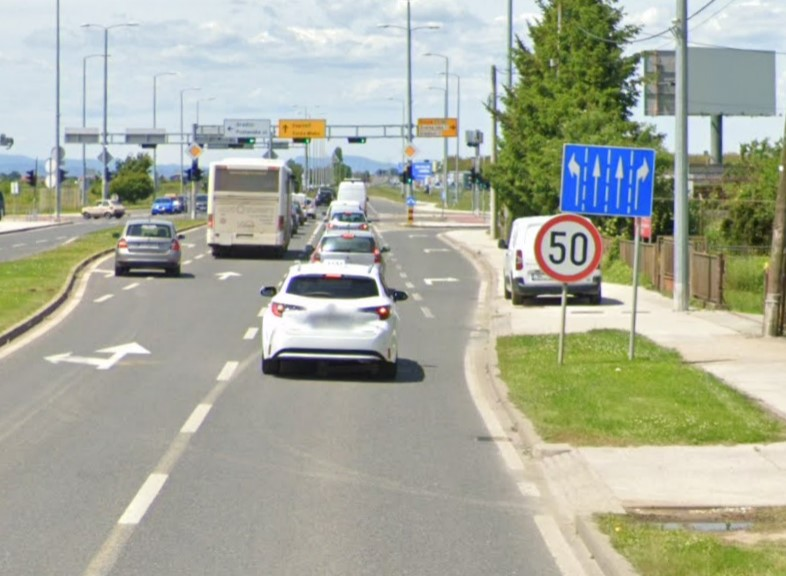Ograničenje brzine 50: (534, 214, 603, 282)
